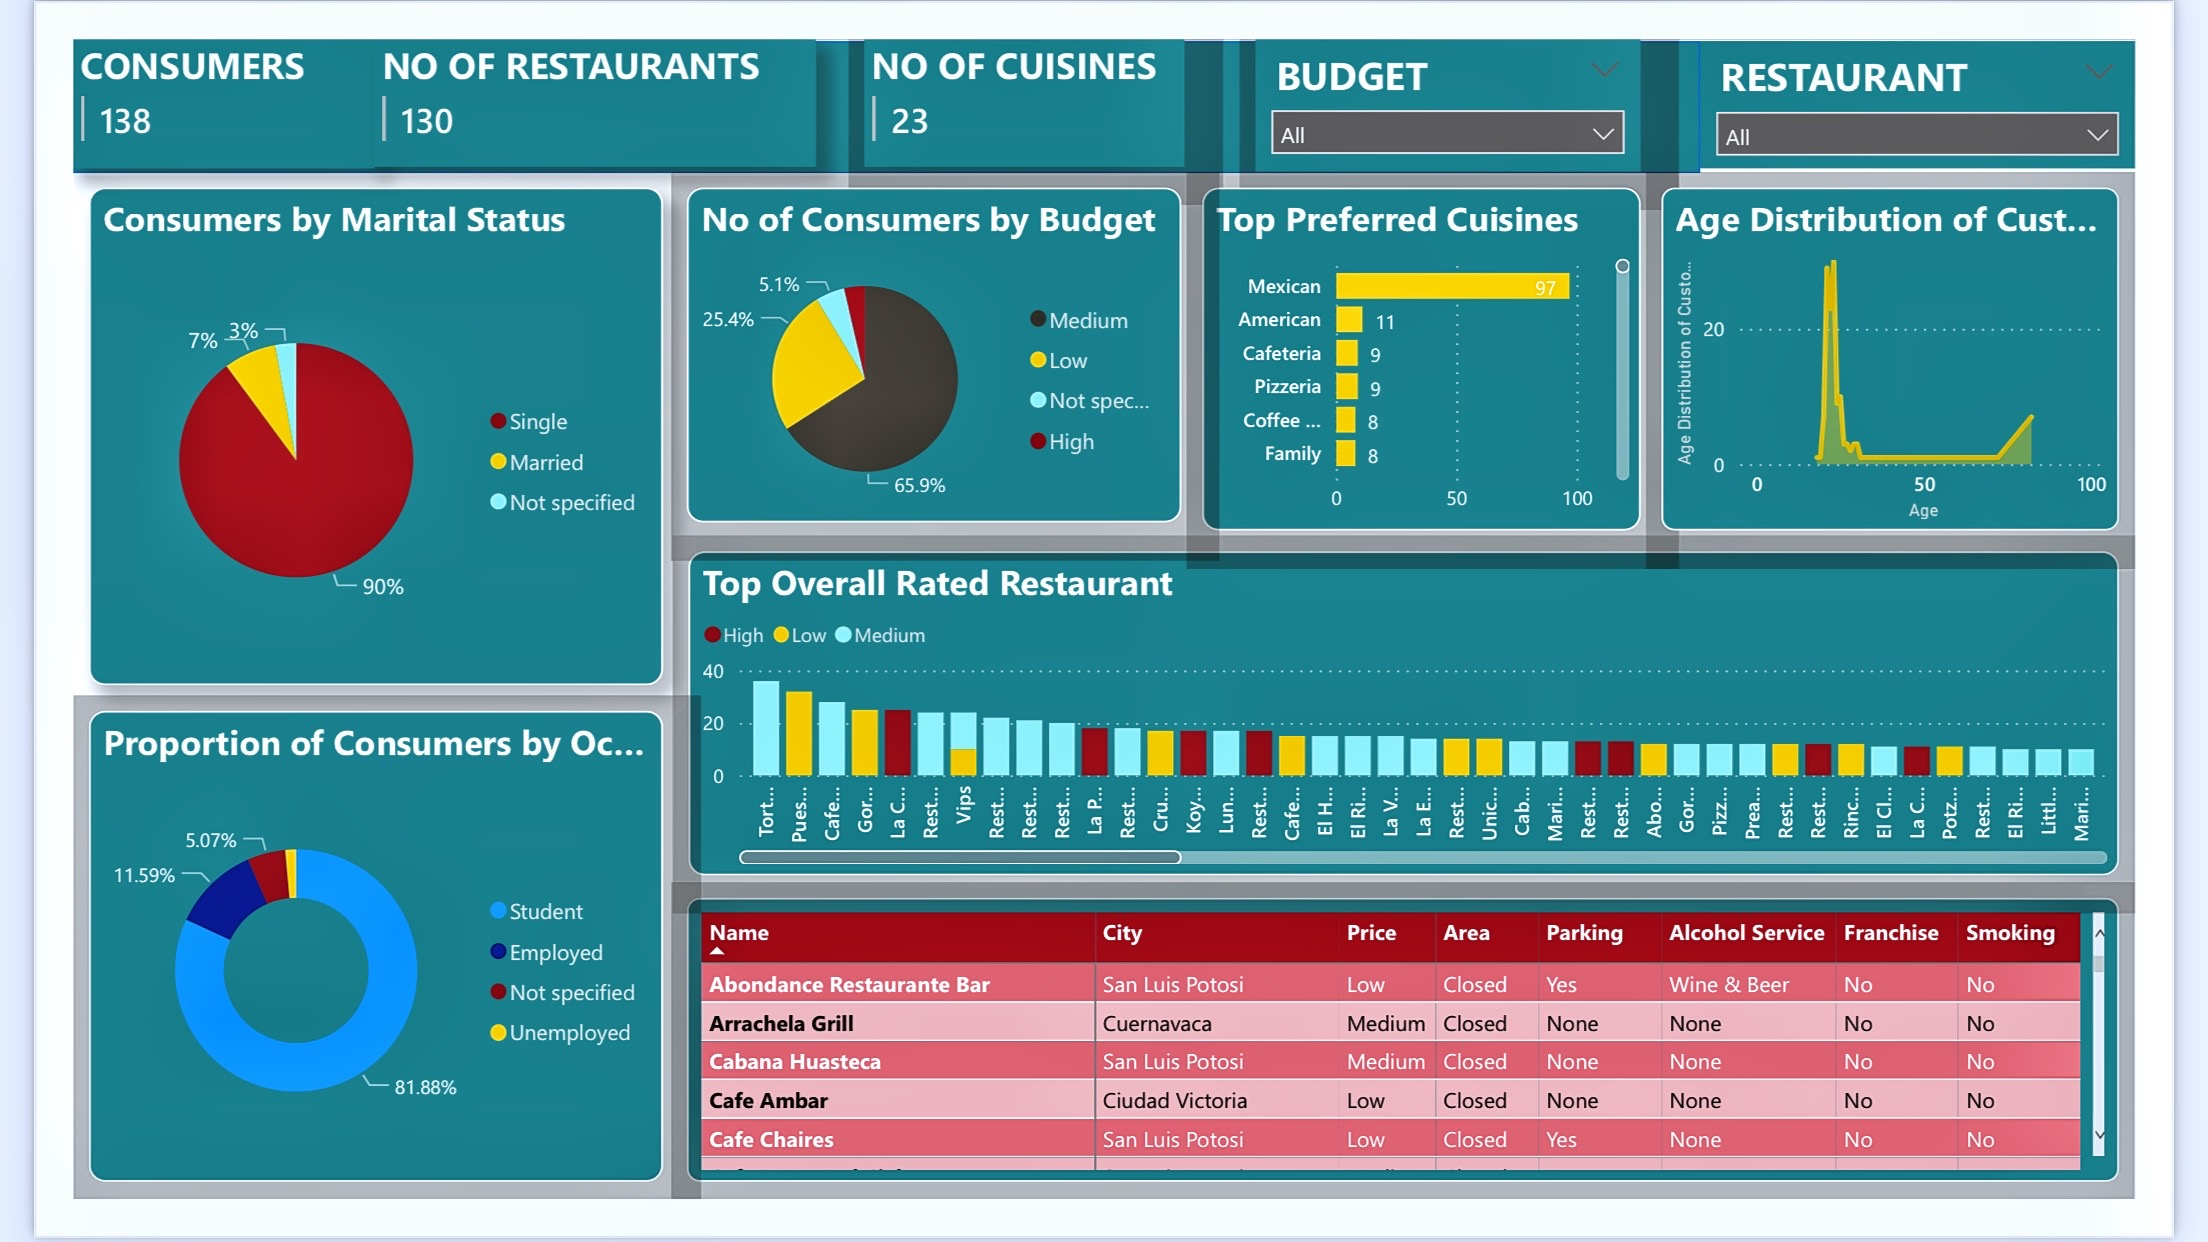

Layout of this report page (visuals, bound fields, positions):
{"tool":"powerbi","page":{"name":"Insights","canvas":[1280,720],"ordinal":1},"visuals":[{"type":"pieChart","title":"Consumers by Marital Status","fields":{"Y":["Count(consumers.Consumer_ID)"],"Category":["consumers.Marital_Status"]},"box":[9.6,92.2,356.5,308.3],"z":0},{"type":"pivotTable","title":"Food and Service Rating by Restaurant","fields":{"Rows":["restaurants.Name"],"Values":["Min(restaurants.City)","Min(restaurants.Price)","Min(restaurants.Area)","Min(restaurants.Parking)","Min(restaurants.Alcohol_Service)","Min(restaurants.Franchise)","Min(restaurants.Smoking_Allowed)"]},"box":[380.8,533.2,889.6,175.3],"z":1000},{"type":"slicer","title":"Restaurant","fields":{"Values":["restaurants.Name"]},"box":[1010.2,1.4,269.8,78.5],"z":2000},{"type":"shape","box":[0,1.4,1010.3,81.9],"z":3000},{"type":"multiRowCard","title":"CONSUMERS","fields":{"Values":["consumers.Consumer_ID"]},"box":[0,0,186.8,80.5],"z":4000},{"type":"multiRowCard","title":"NO OF RESTAURANTS","fields":{"Values":["restaurants.Restaurant_ID"]},"box":[186.8,0,274.5,79],"z":5000},{"type":"multiRowCard","title":"NO OF CUISINES","fields":{"Values":["restaurant_cuisines.Cuisine"]},"box":[491.5,0,198.3,79],"z":6000},{"type":"slicer","fields":{"Values":["consumers.Budget"]},"box":[734.4,0,238.6,81.9],"z":7000},{"type":"columnChart","title":"Top Overall Rated Restaurant","fields":{"Category":["restaurants.Name"],"Y":["CountNonNull(ratings.Overall_Rating)"],"Series":["restaurants.Price"]},"box":[382.3,317.6,888.1,201.2],"z":8000},{"type":"clusteredBarChart","title":"Top Preferred Cuisines","fields":{"Category":["consumer_preferences.Preferred_Cuisine"],"Y":["CountNonNull(consumer_preferences.Consumer_ID)"]},"box":[701.3,92,271.6,212.7],"z":9000},{"type":"areaChart","fields":{"Category":["consumers.Age"],"Y":["CountNonNull(consumers.Consumer_ID)"]},"box":[985.9,92,284.6,212.7],"z":10000},{"type":"pieChart","title":"No of Consumers by Budget","fields":{"Category":["consumers.Budget"],"Y":["CountNonNull(consumers.Consumer_ID)"]},"box":[381.2,92.2,306.9,207.8],"z":11000},{"type":"donutChart","fields":{"Category":["consumers.Occupation"],"Y":["CountNonNull(consumers.Consumer_ID)"]},"box":[10.1,416.8,356.4,291.7],"z":12000}]}

Visuals, with their boxes in screenshot pixels (x1, y1, x2, y2), scaled from the page's 1280x720 canvas onto the 2208x1242 screenshot:
"Consumers by Marital Status" pieChart: (17,159,632,691)
"Food and Service Rating by Restaurant" pivotTable: (657,920,2191,1222)
"Restaurant" slicer: (1743,2,2207,138)
shape: (0,2,1743,144)
"CONSUMERS" multiRowCard: (0,0,322,139)
"NO OF RESTAURANTS" multiRowCard: (322,0,796,136)
"NO OF CUISINES" multiRowCard: (848,0,1190,136)
slicer - consumers.Budget: (1267,0,1678,141)
"Top Overall Rated Restaurant" columnChart: (659,548,2191,895)
"Top Preferred Cuisines" clusteredBarChart: (1210,159,1678,526)
areaChart - consumers.Age x CountNonNull(consumers.Consumer_ID): (1701,159,2192,526)
"No of Consumers by Budget" pieChart: (658,159,1187,518)
donutChart - consumers.Occupation x CountNonNull(consumers.Consumer_ID): (17,719,632,1222)
